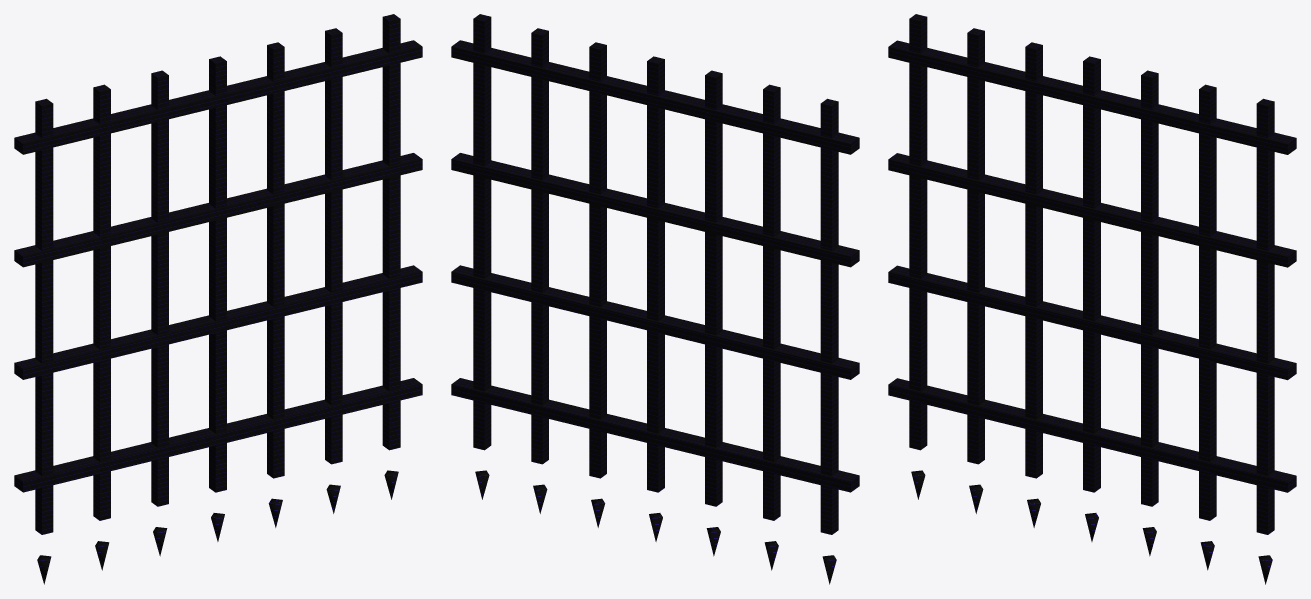
The model's file is d_tor.glb.
The picture shows the model from 3 angles, left to right: view 1: azimuth 30°, elevation 25°; view 2: azimuth 150°, elevation 25°; view 3: azimuth 330°, elevation 25°; orthographic projection.
Parts seen in each view (by area): view 1: cross1, cross2, cross3, cross0, bar0, bar6, bar4, bar5, bar3, bar2, bar1; view 2: cross1, cross2, cross3, cross0, bar0, bar6, bar4, bar5, bar3, bar2, bar1; view 3: cross2, cross0, cross1, cross3, bar6, bar0, bar2, bar1, bar3, bar4, bar5.
Boxes of the visible parts, x1,y1,x2,y2 form: cross1: [14, 265, 422, 379]; cross2: [14, 153, 422, 267]; cross3: [14, 40, 422, 154]; cross0: [14, 378, 422, 492]; bar0: [35, 98, 53, 534]; bar6: [382, 14, 400, 450]; bar4: [267, 42, 284, 478]; bar5: [325, 28, 342, 464]; bar3: [209, 56, 226, 492]; bar2: [151, 70, 168, 506]; bar1: [93, 84, 110, 520]; cross1: [451, 265, 859, 379]; cross2: [451, 153, 859, 267]; cross3: [451, 40, 859, 154]; cross0: [451, 378, 859, 492]; bar0: [820, 98, 838, 534]; bar6: [473, 14, 491, 450]; bar4: [589, 42, 606, 478]; bar5: [531, 28, 548, 464]; bar3: [647, 56, 664, 492]; bar2: [705, 70, 722, 506]; bar1: [763, 84, 780, 520]; cross2: [888, 153, 1296, 267]; cross0: [888, 378, 1296, 492]; cross1: [888, 265, 1296, 380]; cross3: [888, 40, 1296, 154]; bar6: [1256, 98, 1274, 534]; bar0: [909, 14, 927, 450]; bar2: [1025, 42, 1042, 478]; bar1: [967, 28, 984, 464]; bar3: [1083, 56, 1100, 492]; bar4: [1141, 70, 1158, 506]; bar5: [1199, 84, 1216, 520].
Size of the model in its own units: 7.8 by 9 by 0.3.
1 material, 1 textured.
